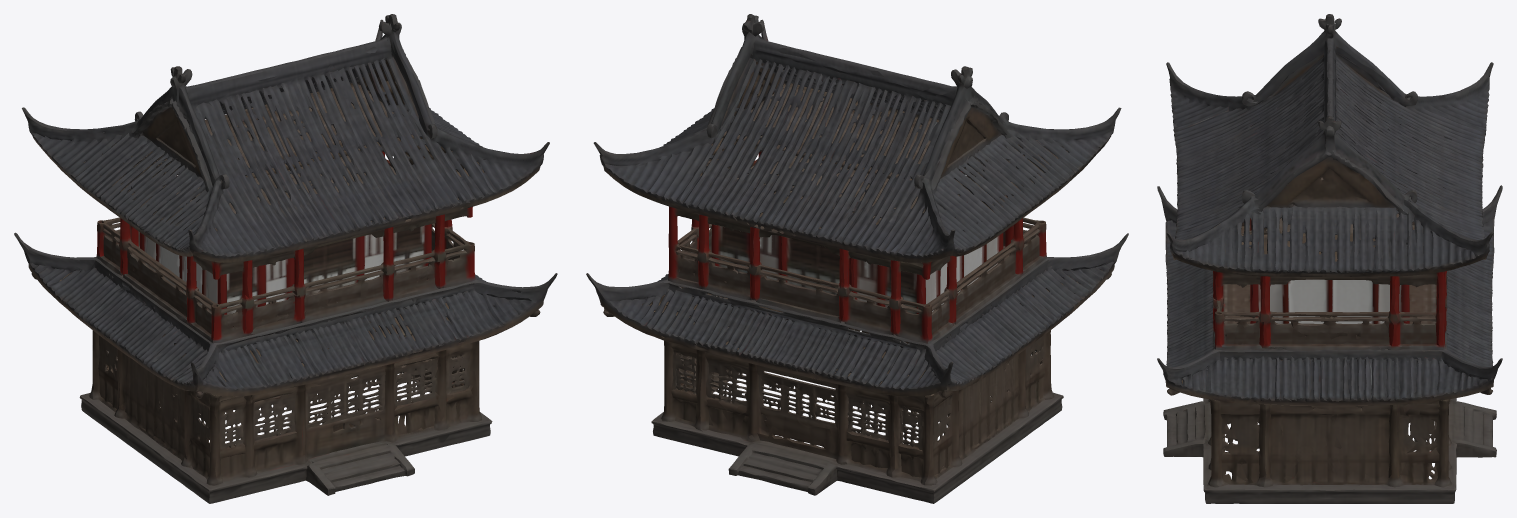
Rendered from street-pavilion.glb.
3 views of the same model, side by side, from view 1: azimuth 30°, elevation 25°; view 2: azimuth 150°, elevation 25°; view 3: azimuth 270°, elevation 25° (orthographic). The views are drawn at different scales.
Visible parts, largest first — view 1: world; view 2: world; view 3: world.
Part boxes in pixels (bbox=[...]): world: bbox=[14, 14, 557, 503]; world: bbox=[586, 14, 1128, 503]; world: bbox=[1157, 14, 1502, 503].
Bounding box in the file's own units: 9.53 × 9.5 × 8.
Materials: 1 (1 with a texture image).
